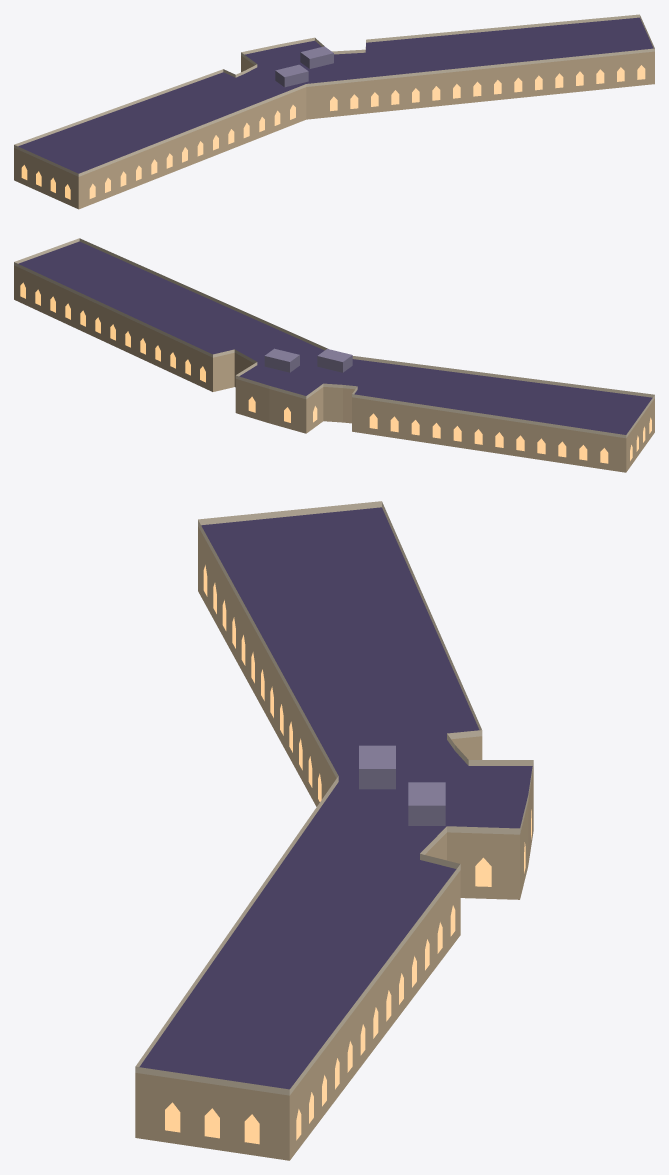
File: b-057-westminster-hall.glb
3 renders of one model, top to bottom at view 1: azimuth 30°, elevation 25°; view 2: azimuth 150°, elevation 25°; view 3: azimuth 270°, elevation 25°, orthographic. The views are drawn at different scales.
Visible parts, largest first — view 1: campus/b-057-westminster-hall-0; view 2: campus/b-057-westminster-hall-0; view 3: campus/b-057-westminster-hall-0.
Boxes of the visible parts, x1,y1,x2,y2 form: campus/b-057-westminster-hall-0: (14, 14, 654, 209); campus/b-057-westminster-hall-0: (14, 238, 654, 472); campus/b-057-westminster-hall-0: (135, 501, 533, 1160).
Bounding box in the file's own units: 112 × 7.6 × 32.09.
